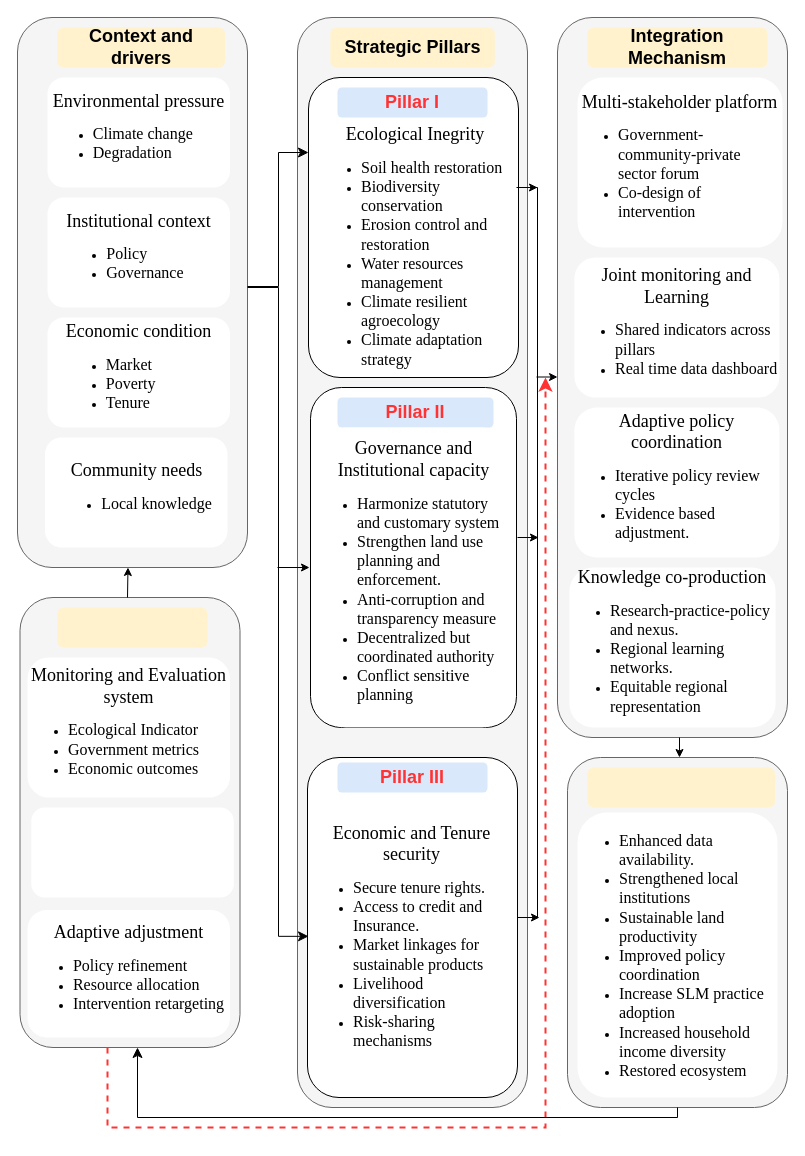
Some shapes in this 805 by 1156 pixel diagram are drawn without their labels. The shapes that lost their labels are listed below. From the top down, each one's box as (x1, y1, x2, y2) in pixels, then its label:
(57, 607, 207, 647): Adaptive Feeback
(587, 767, 774, 807): Sustainable outcomes
(31, 807, 233, 897): Joint review process Annual Stakeholder forum
